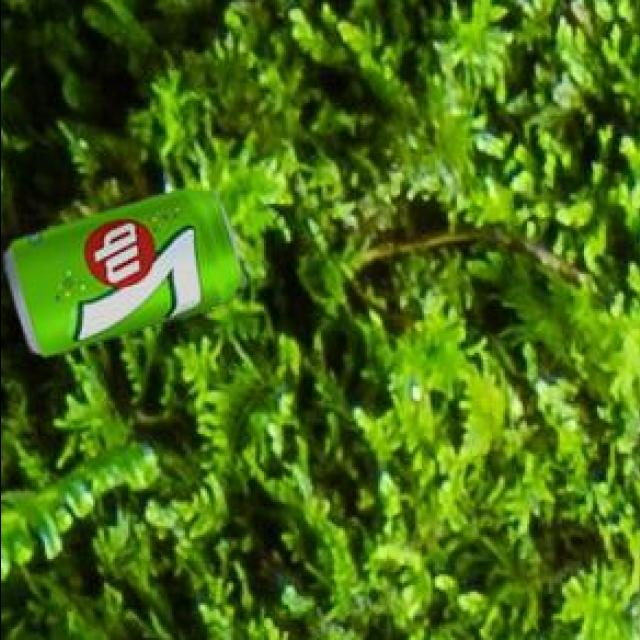logam: (8, 192, 249, 361)
